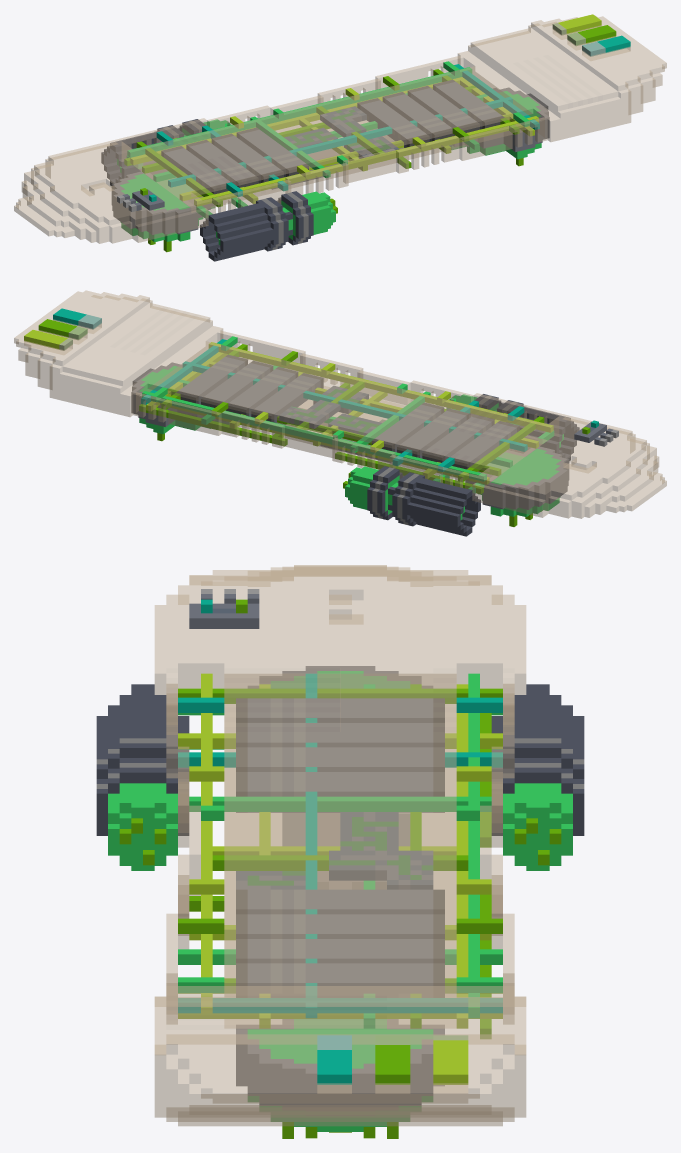
Rendered from testGLB.glb.
The picture shows the model from 3 angles, top to bottom: view 1: azimuth 30°, elevation 25°; view 2: azimuth 150°, elevation 25°; view 3: azimuth 270°, elevation 25°; orthographic projection. The views are drawn at different scales.
Visible parts, largest first — view 1: board.001, core, core-metal.vox-0, thrusters-metal.vox-0, bottom-metal.vox-0, thrusters emission, board-top-emission.vox-0, thrusters-emission.vox-0, board-top-metal.vox-0; view 2: board.001, core, core-metal.vox-0, thrusters-metal.vox-0, bottom-metal.vox-0, thrusters emission, board-top-emission.vox-0, thrusters-emission.vox-0, board-top-metal.vox-0; view 3: board.001, core-metal.vox-0, core, thrusters-metal.vox-0, bottom-metal.vox-0, thrusters-emission.vox-0, thrusters emission, board-top-emission.vox-0, board-top-metal.vox-0.
Part boxes in pixels (x1=…): board.001: x1=14, y1=15, x2=666, y2=243; core: x1=124, y1=61, x2=539, y2=218; core-metal.vox-0: x1=161, y1=79, x2=504, y2=194; thrusters-metal.vox-0: x1=101, y1=119, x2=313, y2=261; bottom-metal.vox-0: x1=111, y1=87, x2=549, y2=234; thrusters emission: x1=120, y1=91, x2=541, y2=252; board-top-emission.vox-0: x1=140, y1=14, x2=630, y2=201; thrusters-emission.vox-0: x1=117, y1=119, x2=337, y2=245; board-top-metal.vox-0: x1=117, y1=189, x2=164, y2=211; board.001: x1=14, y1=290, x2=666, y2=518; core: x1=139, y1=336, x2=554, y2=494; core-metal.vox-0: x1=176, y1=354, x2=519, y2=469; thrusters-metal.vox-0: x1=367, y1=394, x2=579, y2=536; bottom-metal.vox-0: x1=131, y1=362, x2=569, y2=509; thrusters emission: x1=139, y1=366, x2=560, y2=526; board-top-emission.vox-0: x1=24, y1=308, x2=598, y2=434; thrusters-emission.vox-0: x1=343, y1=394, x2=563, y2=519; board-top-metal.vox-0: x1=574, y1=421, x2=618, y2=446; board.001: x1=154, y1=565, x2=526, y2=1126; core-metal.vox-0: x1=236, y1=698, x2=444, y2=997; core: x1=178, y1=673, x2=502, y2=1038; thrusters-metal.vox-0: x1=96, y1=684, x2=584, y2=835; bottom-metal.vox-0: x1=236, y1=666, x2=444, y2=1107; thrusters-emission.vox-0: x1=108, y1=783, x2=572, y2=870; thrusters emission: x1=247, y1=671, x2=433, y2=1138; board-top-emission.vox-0: x1=201, y1=599, x2=468, y2=1084; board-top-metal.vox-0: x1=189, y1=589, x2=259, y2=628.
Size of the model in its own units: 0.9 by 0.1338 by 0.315.
5 materials, 5 textured.
